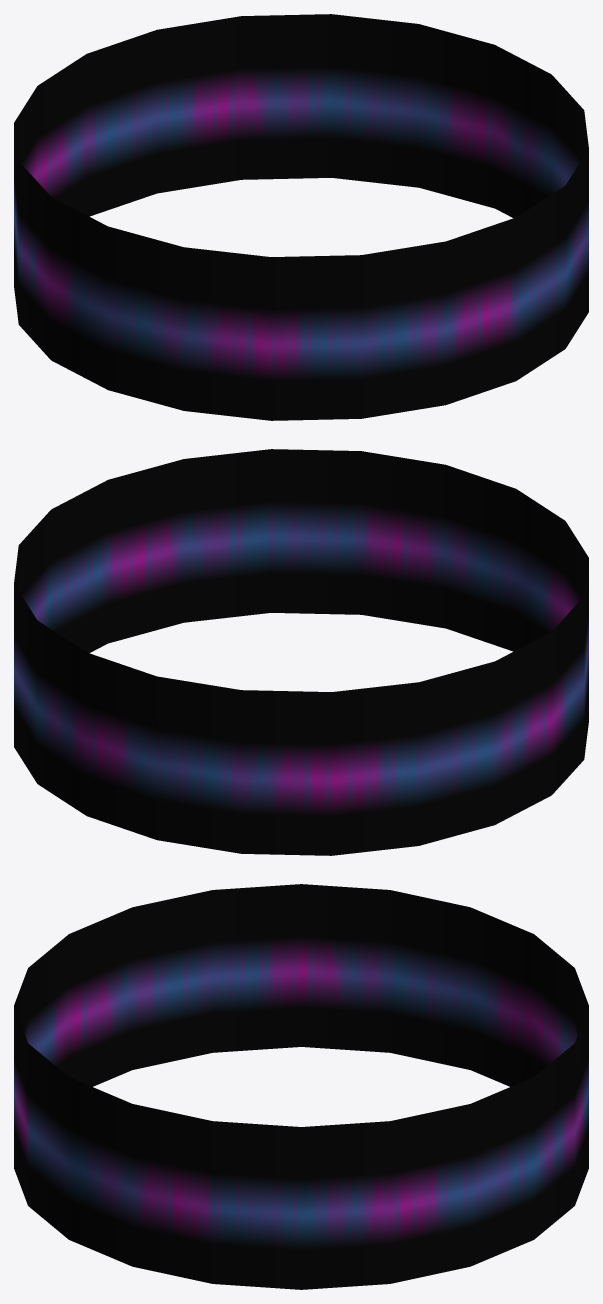
Rendered from circlescan-fx.fbx.
3 views of the same model, one above another, from view 1: azimuth 30°, elevation 25°; view 2: azimuth 150°, elevation 25°; view 3: azimuth 270°, elevation 25° (orthographic).
Visible parts, largest first — view 1: pCylinder1; view 2: pCylinder1; view 3: pCylinder1.
Boxes of the visible parts, bbox=[...] form: pCylinder1: bbox=[14, 14, 588, 420]; pCylinder1: bbox=[14, 449, 588, 855]; pCylinder1: bbox=[14, 884, 588, 1289].
Bounding box in the file's own units: 16 × 5 × 16.
Materials: 1 (1 with a texture image).
